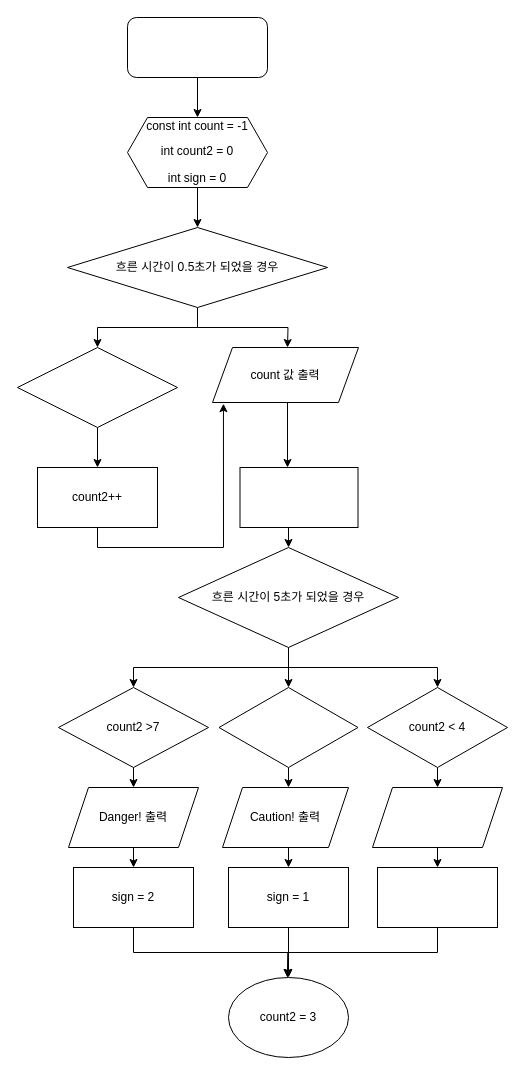
Image size: 525x1075. Some labels were removed from this diagram. Each missing label, with the centre of its shape:
4 <= count2 < 7: the point at 288,727
count = 0: the point at 298,497
count > 200: the point at 97,387
safe 출력: the point at 437,817
sign = 0: the point at 437,897
지진이 감지되지 않음: the point at 197,47
